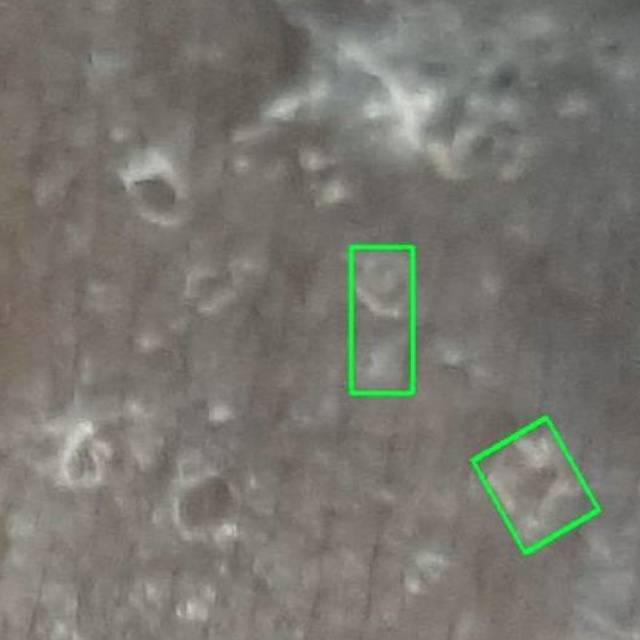Eczema: (472, 417, 599, 552), (351, 247, 412, 393)
